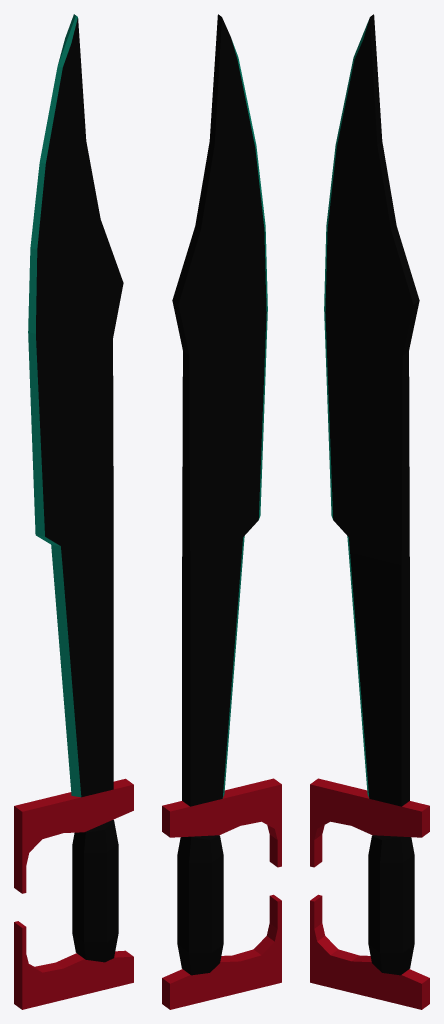
File: SpaSword.fbx
3 renders of one model, left to right at view 1: azimuth 30°, elevation 25°; view 2: azimuth 210°, elevation 25°; view 3: azimuth 330°, elevation 25°, orthographic.
Parts seen in each view (by area): view 1: Plane.005; view 2: Plane.005; view 3: Plane.005.
Part boxes in pixels (x1,y1,x2,y2): Plane.005: (14,14,133,1009); Plane.005: (162,14,281,1009); Plane.005: (310,14,429,1009).
Bounding box in the file's own units: 11.51 × 96.31 × 4.11.
